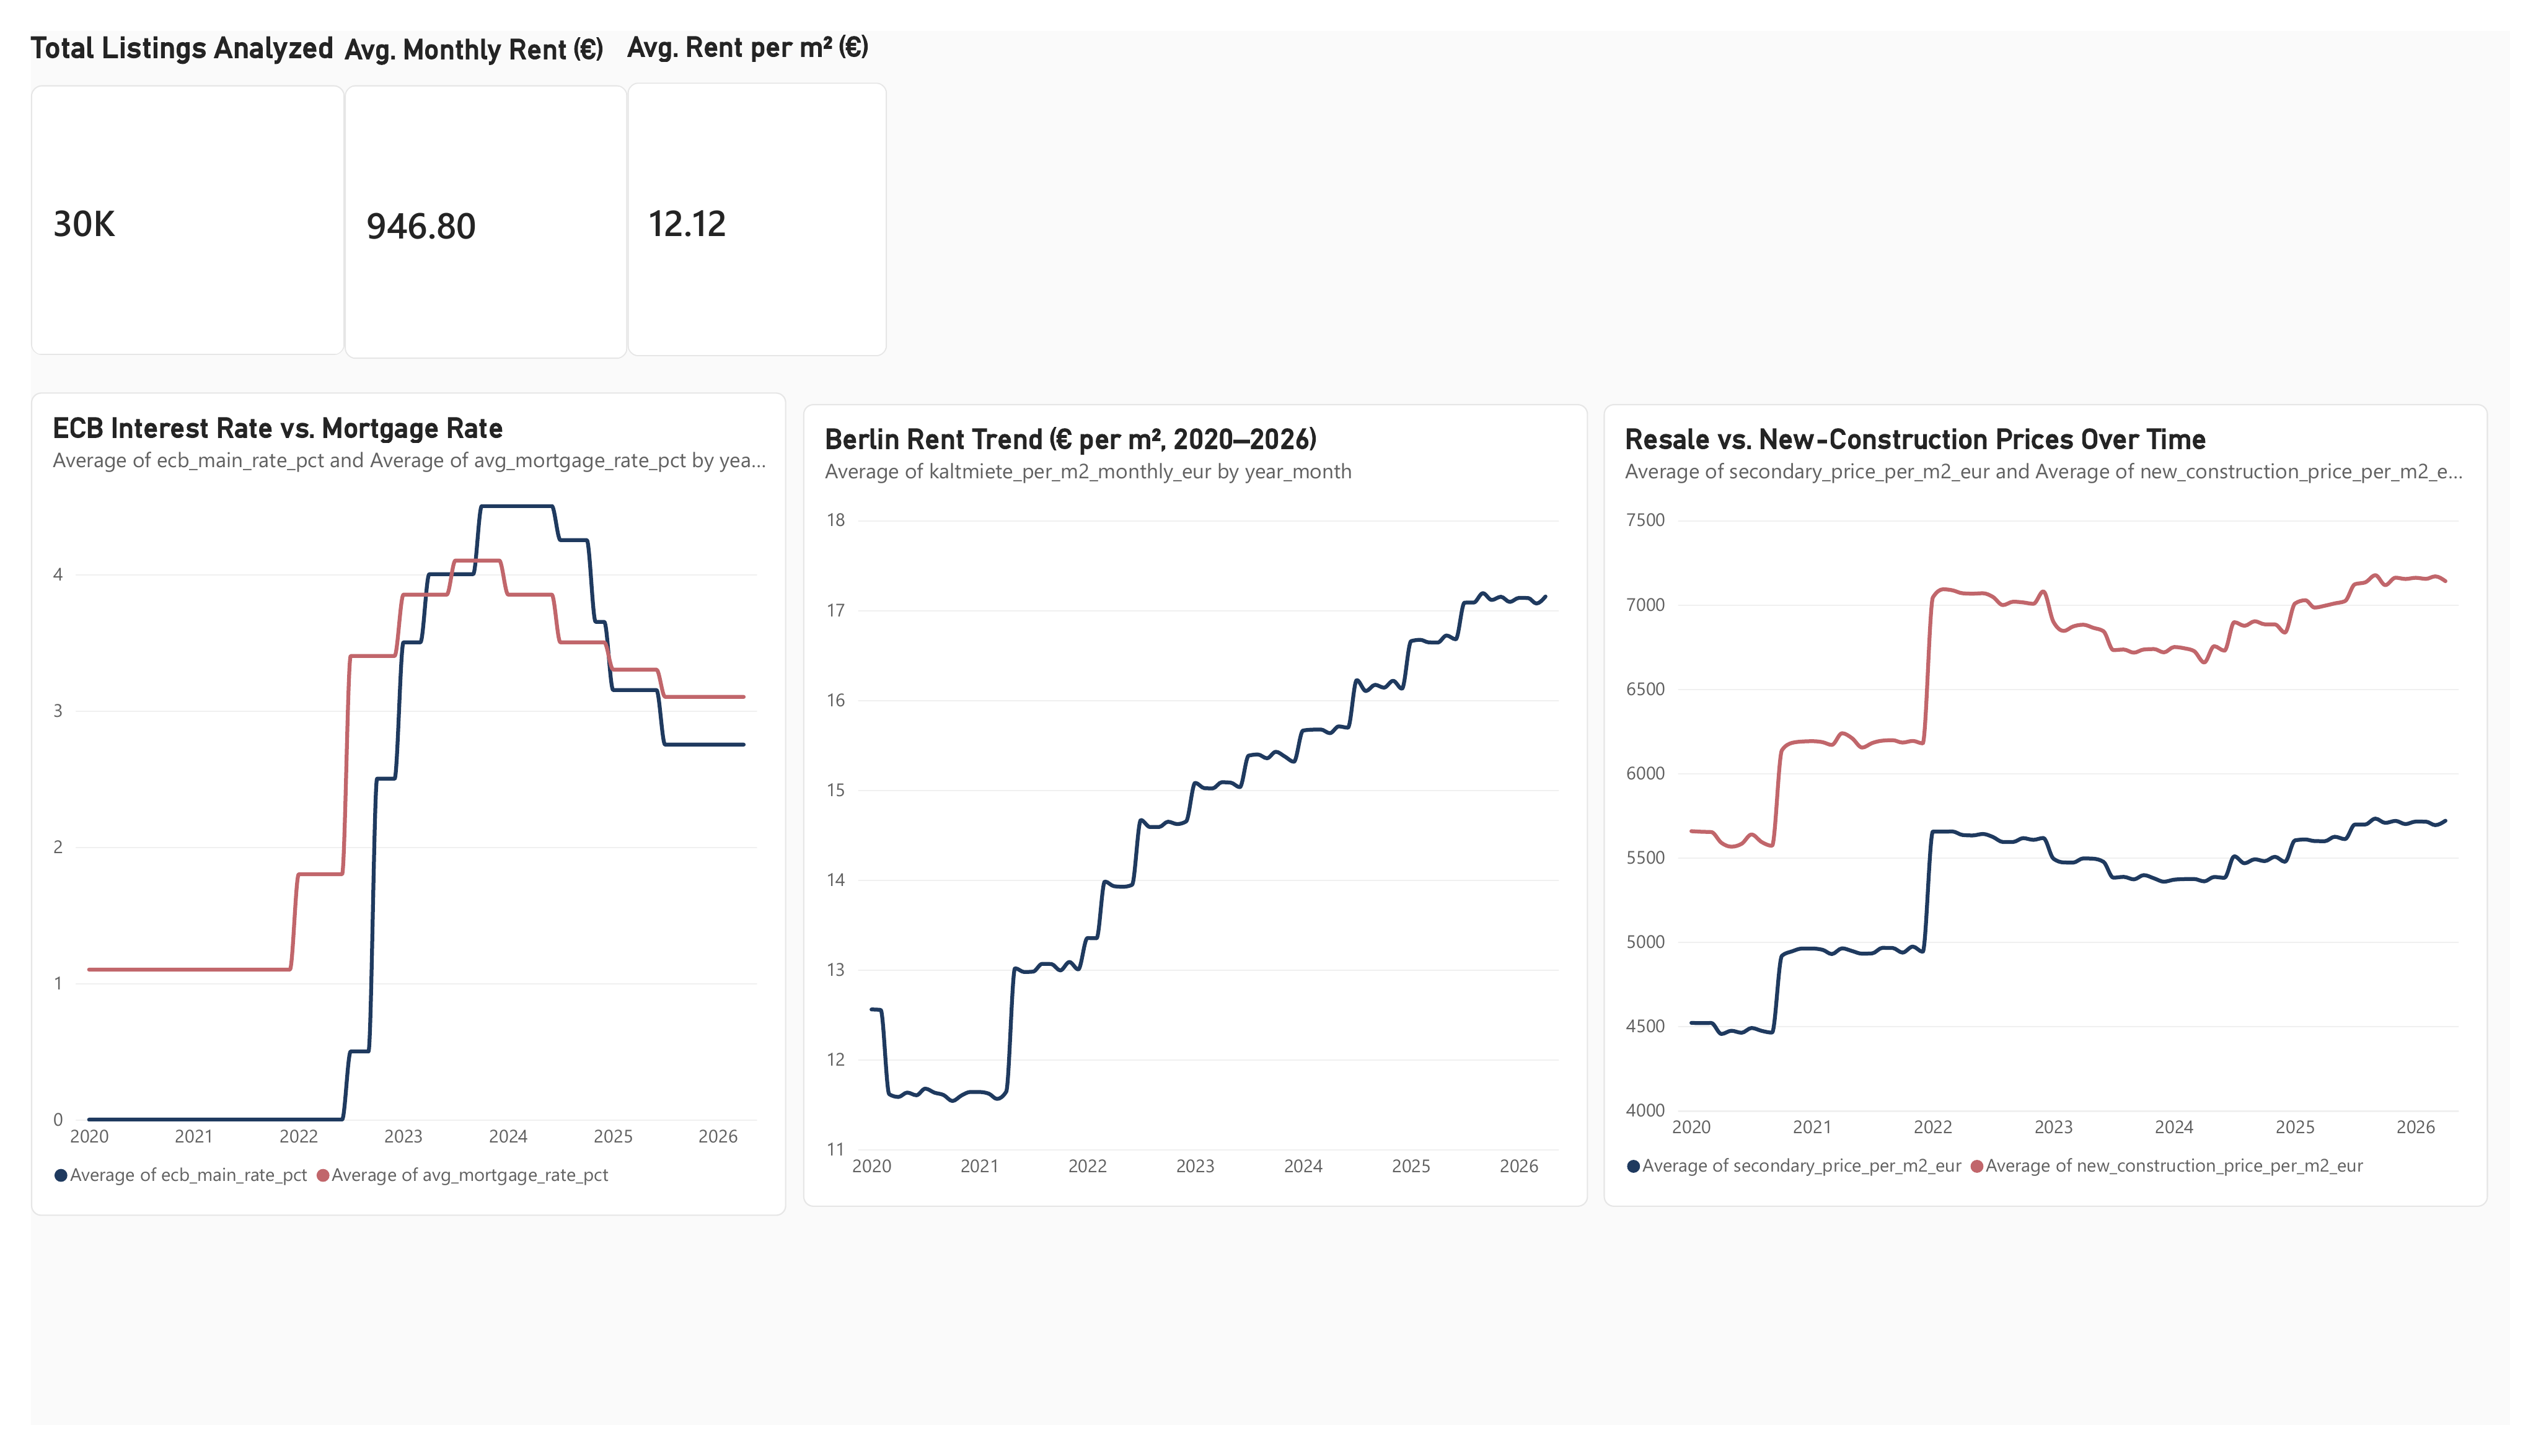

The page's visual inventory and layout, read from the dashboard file:
{"tool":"powerbi","page":{"name":"Market Overview","canvas":[1920,1080],"ordinal":0},"visuals":[{"type":"lineChart","title":"Berlin Rent Trend (€ per m², 2020–2026)","fields":{"Category":["kiez_prices_monthly.year_month"],"Y":["Avg(kiez_prices_monthly.kaltmiete_per_m2_monthly_eur)"]},"box":[598.2,289,607.4,622.1],"z":0},{"type":"lineChart","title":"Resale vs. New-Construction Prices Over Time","fields":{"Category":["kiez_prices_monthly.year_month.Variation.Date Hierarchy.Year"],"Y":["Avg(kiez_prices_monthly.secondary_price_per_m2_eur)","Avg(kiez_prices_monthly.new_construction_price_per_m2_eur)"]},"box":[1218.4,289,684.7,622.1],"z":1000},{"type":"lineChart","title":"ECB Interest Rate vs. Mortgage Rate","fields":{"Category":["kiez_prices_monthly.year_month"],"Y":["Avg(kiez_prices_monthly.ecb_main_rate_pct)","Avg(kiez_prices_monthly.avg_mortgage_rate_pct)"]},"box":[0,279.8,585.3,638.7],"z":2000},{"type":"cardVisual","title":"\tAvg. Monthly Rent (€)","fields":{"Data":["Avg(rentals.kaltmiete_eur_monthly)"]},"box":[242.9,1.8,219,252.1],"z":2001},{"type":"cardVisual","title":"Total Listings Analyzed","fields":{"Data":["Count(rentals.id)"]},"box":[0,0,242.9,252.1],"z":2002},{"type":"cardVisual","title":"Avg. Rent per m² (€)","fields":{"Data":["Avg(rentals.rent_per_m2_kalt_eur)"]},"box":[462,0,200.6,252.1],"z":2003}]}

Visuals, with their boxes on the page's 1920x1080 design canvas (x1, y1, x2, y2). These are canvas units, not pixel positions in the 2541x1456 screenshot, which may show the page scaled, cropped or inside an application window:
"Berlin Rent Trend (€ per m², 2020–2026)" lineChart: crop(598, 289, 1206, 911)
"Resale vs. New-Construction Prices Over Time" lineChart: crop(1218, 289, 1903, 911)
"ECB Interest Rate vs. Mortgage Rate" lineChart: crop(0, 280, 585, 918)
"	Avg. Monthly Rent (€)" cardVisual: crop(243, 2, 462, 254)
"Total Listings Analyzed" cardVisual: crop(0, 0, 243, 252)
"Avg. Rent per m² (€)" cardVisual: crop(462, 0, 663, 252)
